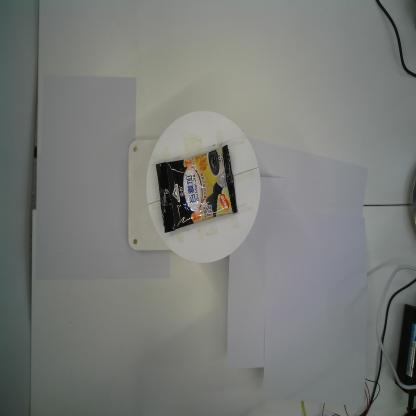Instant Drink: (156, 144, 238, 233)
